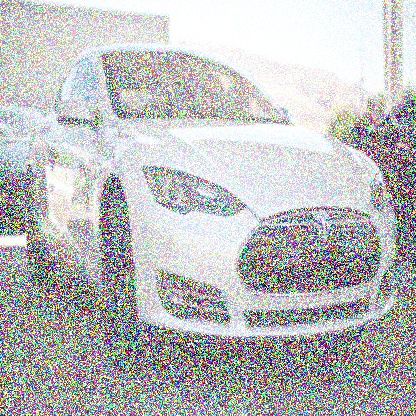Vehicle: (24, 42, 399, 380)
